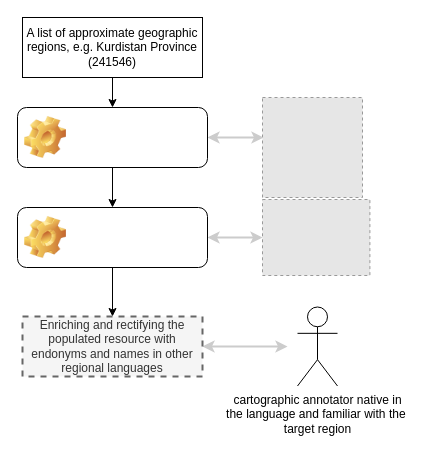
The diagram is 426 pixels wide and 453 high, and some of its shapes have lost their labels. Grey dashed boxes stand in for pictures. The centre of each missing label's shape, as x and y in pixels:
Extract geographic coordinate: [112,137]
Populate the coordinates with the existing labels: [112,237]
